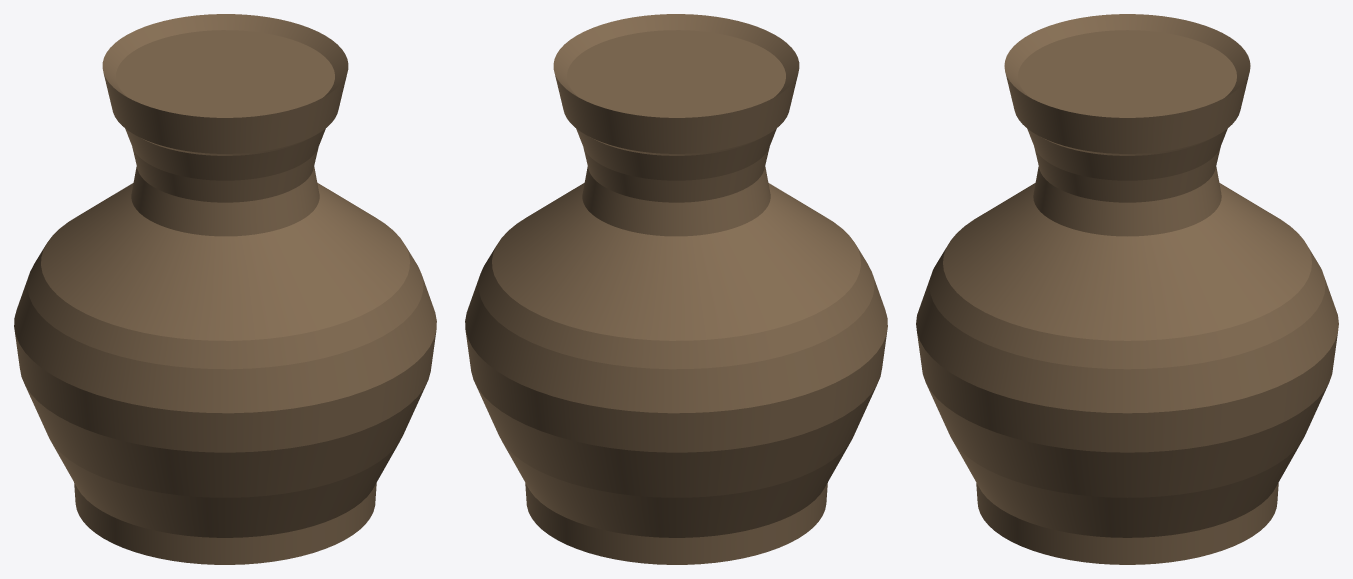
3 renders of one model, left to right at view 1: azimuth 30°, elevation 25°; view 2: azimuth 150°, elevation 25°; view 3: azimuth 270°, elevation 25°, orthographic.
Parts seen in each view (by area): view 1: vessel; view 2: vessel; view 3: vessel.
Part boxes in pixels (box(x1,y1,x2,y2)): vessel: box(14, 14, 436, 564); vessel: box(465, 14, 887, 564); vessel: box(916, 14, 1338, 564).
Bounding box in the file's own units: 0.22 × 0.25 × 0.22.
